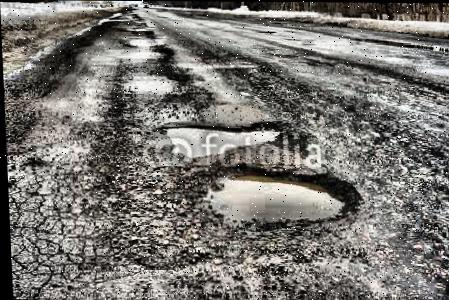pothole: (191, 162, 363, 227), (156, 118, 287, 160), (120, 72, 173, 97), (122, 48, 164, 59), (126, 37, 161, 46)
